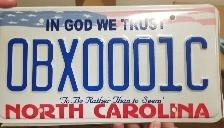0: (5, 35, 30, 93), (81, 36, 105, 93), (107, 35, 131, 92), (132, 36, 156, 93)
1: (157, 36, 184, 93)
B: (30, 38, 55, 93)
C: (184, 34, 210, 92)
X: (55, 37, 81, 92)
